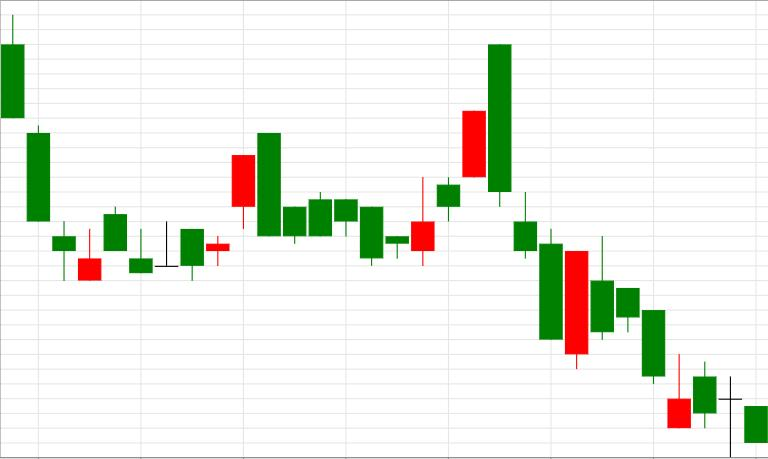bearish_engulfing_fall: (386, 44, 511, 266), (129, 133, 281, 280)
inverse_hammer_rise: (591, 236, 691, 428)
